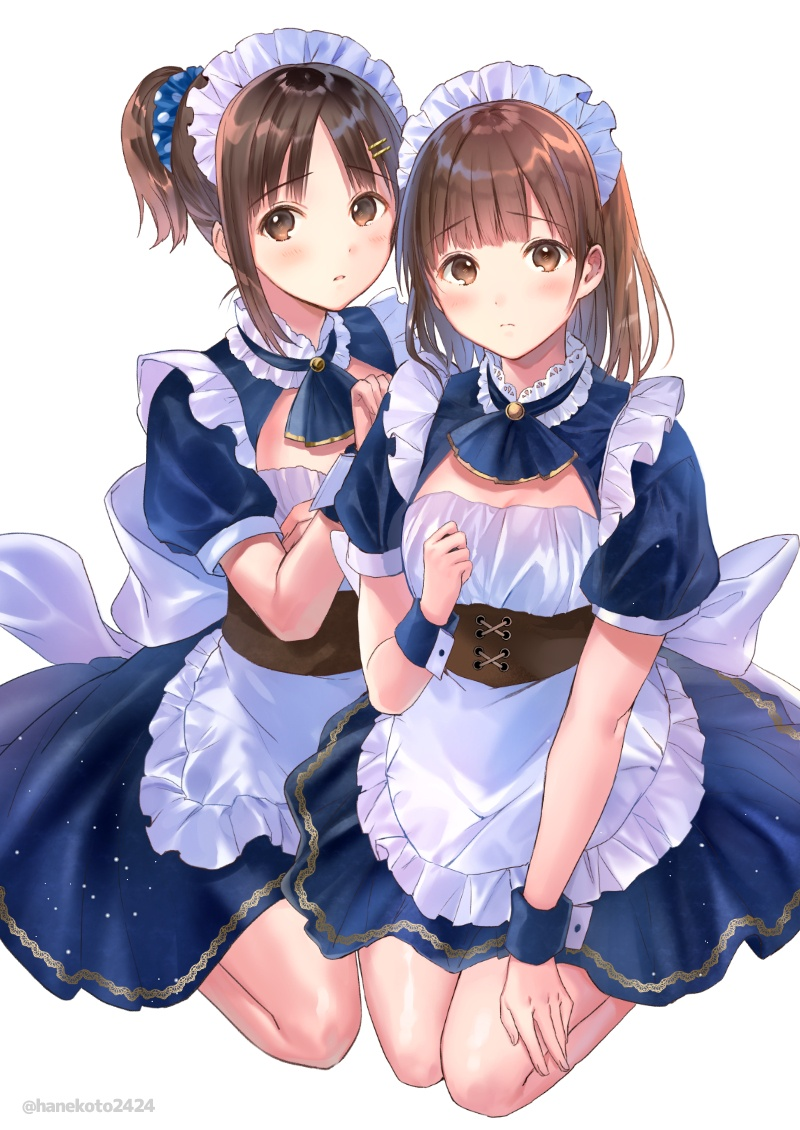纸片人正脸: (174, 32, 412, 322), (399, 83, 621, 371)
